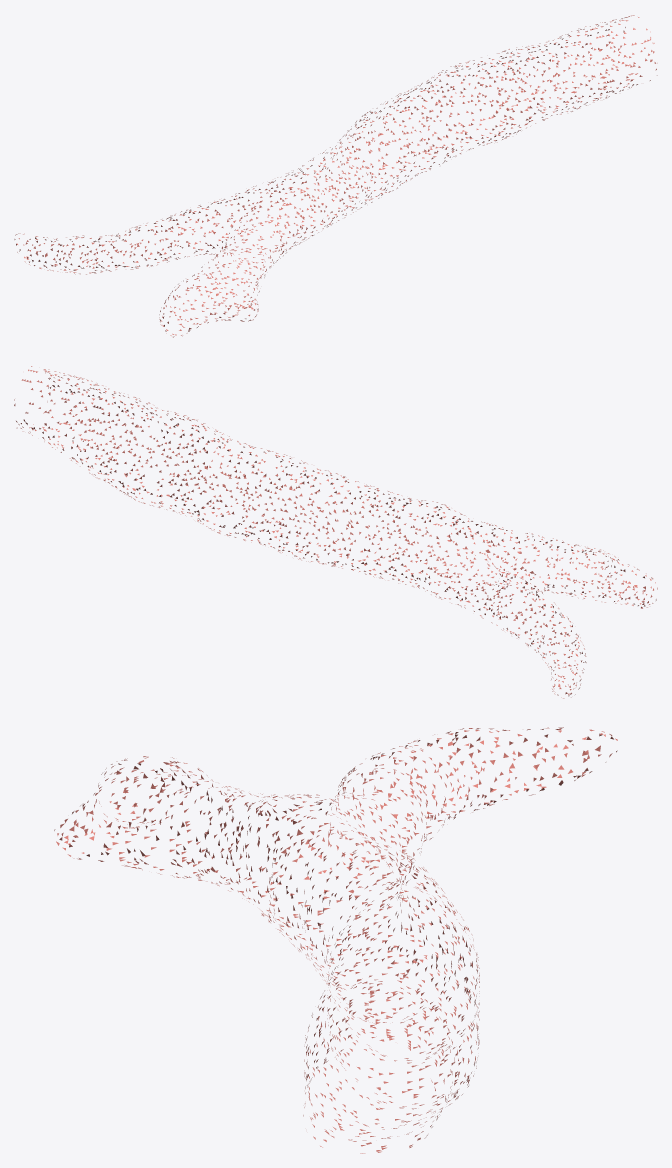
File: morph_001.glb
3 views of the same model, one above another, from view 1: azimuth 30°, elevation 25°; view 2: azimuth 150°, elevation 25°; view 3: azimuth 270°, elevation 25° (orthographic). The views are drawn at different scales.
Size of the model in its own units: 155 by 37.82 by 65.99.
